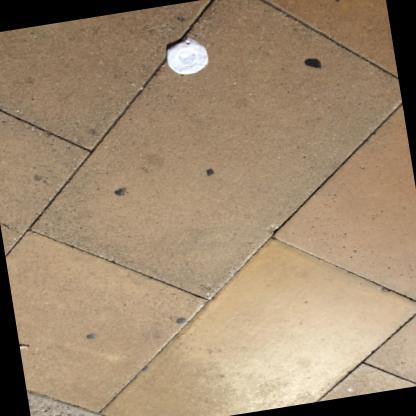Paper: (19, 343, 29, 347)
Plastic: (166, 36, 208, 73)
